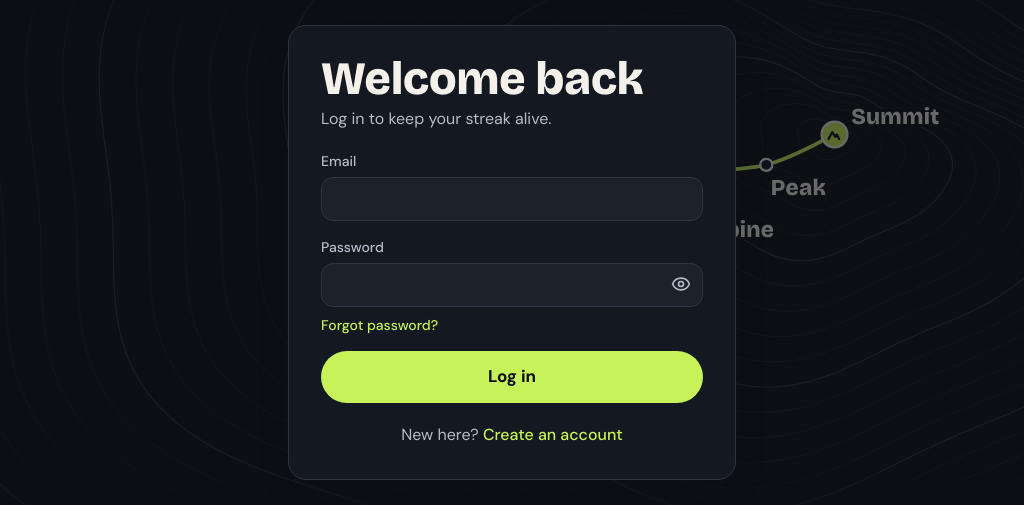
Test: AuthPage: log in face › opens the reset view with the typed email and answers the same way for any address
In the field labelled "Email": (512, 198) x1=321 y1=176 x2=703 y2=220, type "ada@example.com"
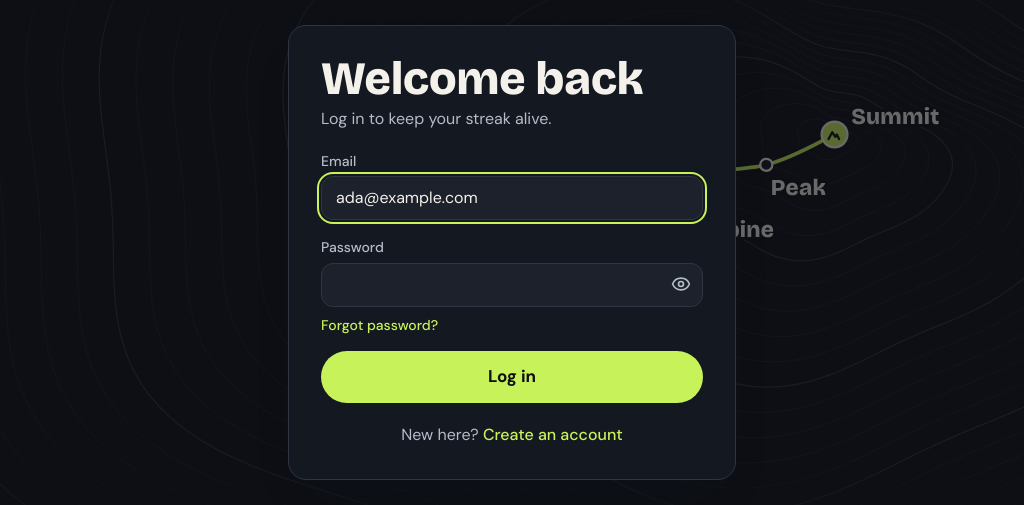
Click the button "Forgot password?": (380, 324) x1=321 y1=314 x2=438 y2=334
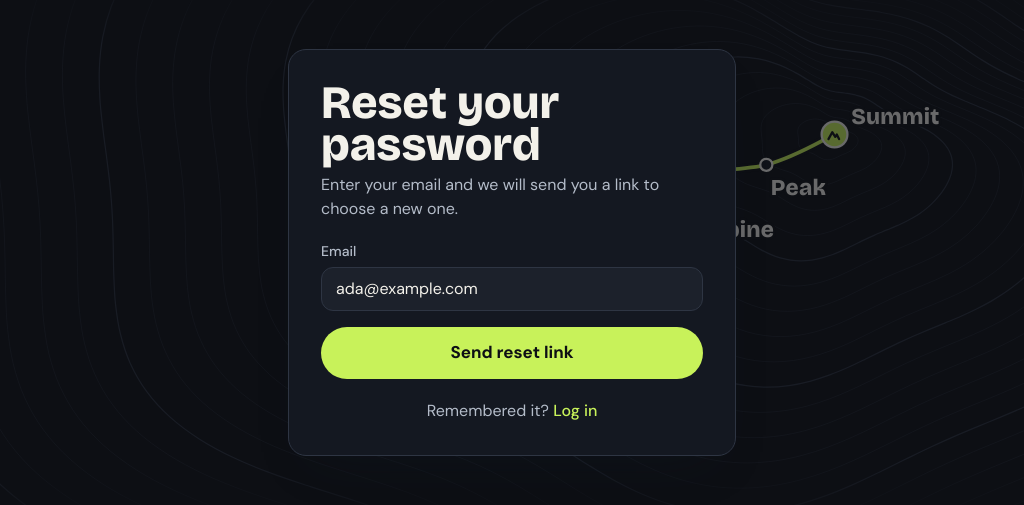
Check: the field labelled "Email" holds "ada@example.com", box x1=321 y1=267 x2=703 y2=311
Click the button "Send reset link": (512, 353) x1=321 y1=327 x2=703 y2=379
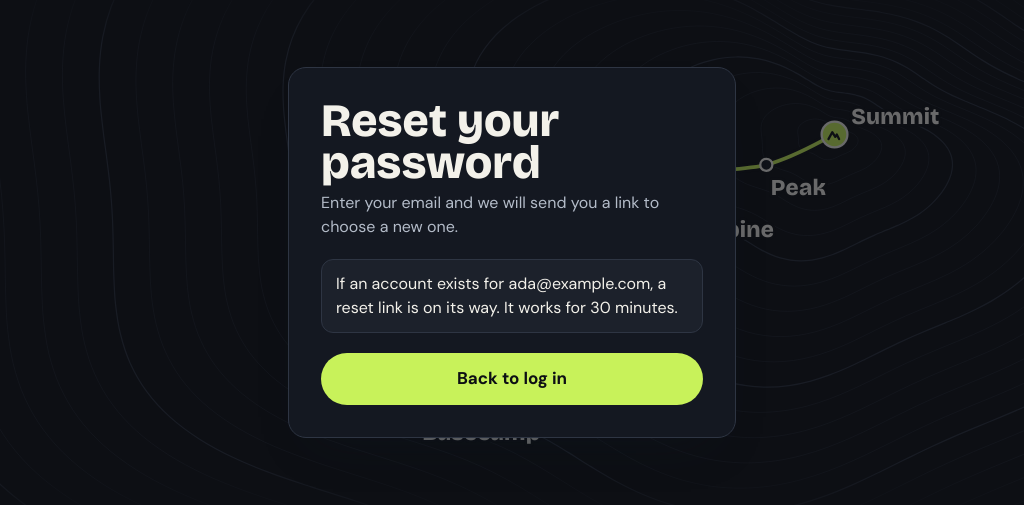
Check: the message shows "If an account exists for ada@example.com, a reset link is on its way. It works for 30 minutes.", box x1=321 y1=259 x2=703 y2=333
Click the button "Back to log in": (512, 379) x1=321 y1=353 x2=703 y2=405
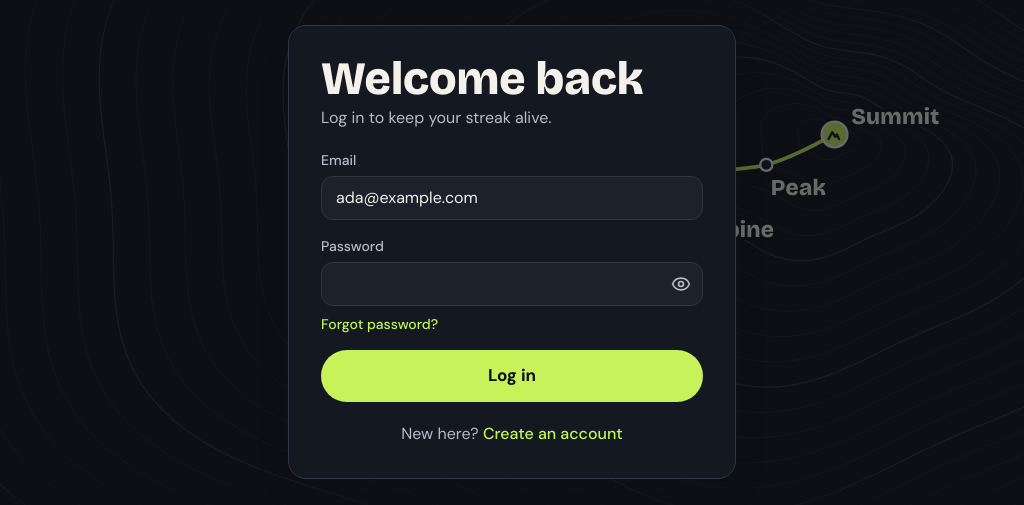
Check: the field labelled "Email" is shown, box x1=321 y1=176 x2=703 y2=220
